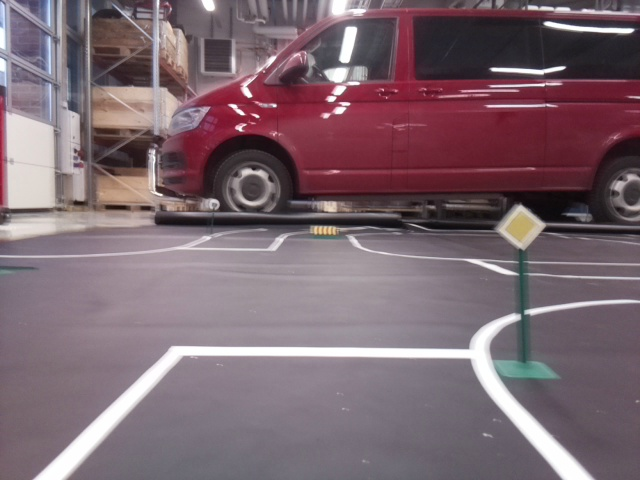Priority: (496, 205, 542, 250)
